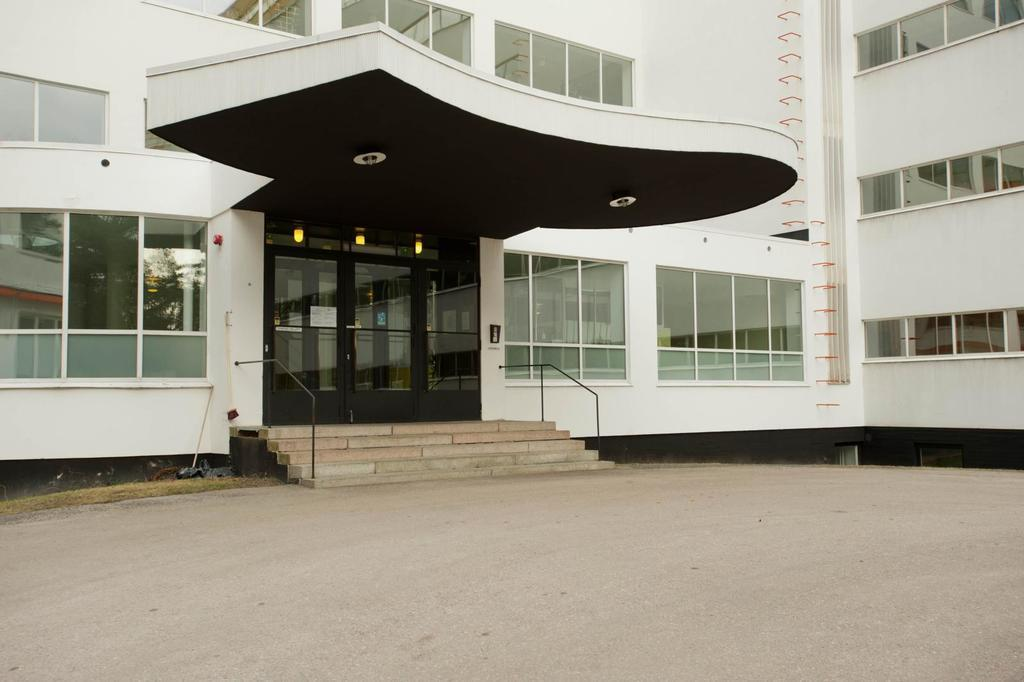handle: (348, 320, 413, 340), (280, 318, 342, 336)
